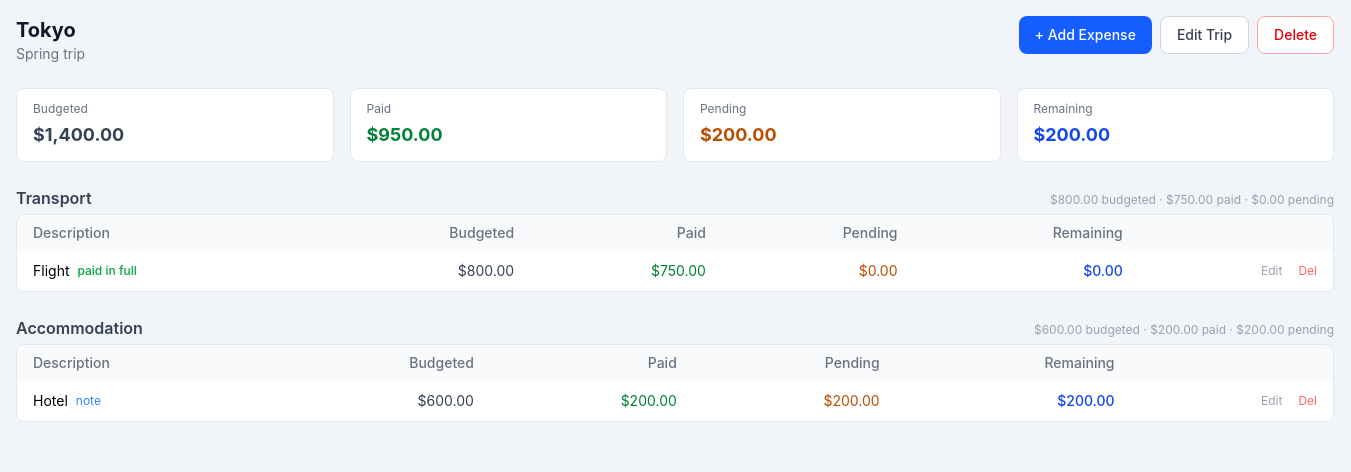
Scenario: TripView › expands and collapses a note on click
Click the button "note" at (88, 401), box [76, 393, 101, 409]
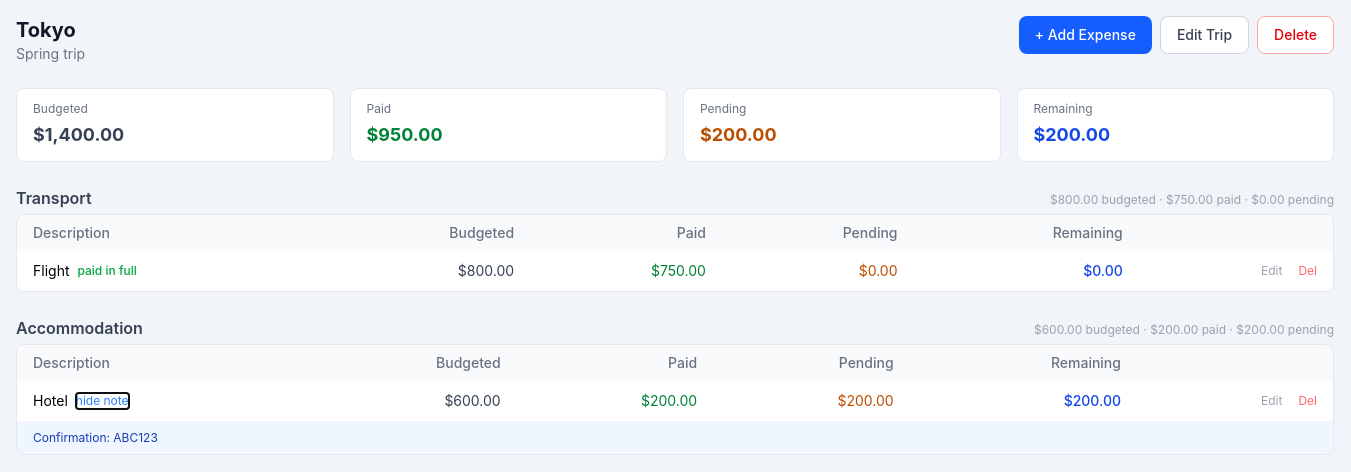
Result: the text "Confirmation: ABC123" is shown at [17, 422, 1333, 454]
Click the button "hide note" at (102, 401), box [76, 393, 129, 409]
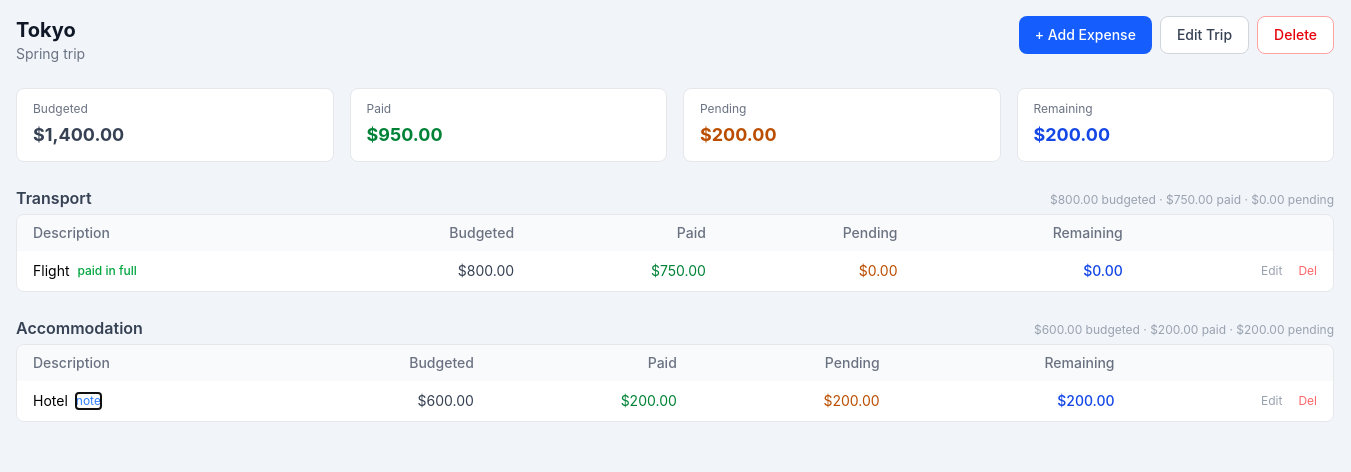
Result: the text "Confirmation: ABC123" is gone
